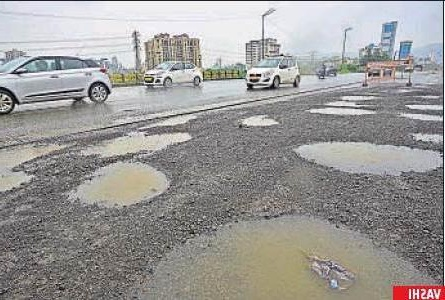pothole: (131, 210, 445, 300), (291, 135, 444, 176), (69, 158, 172, 207), (85, 127, 191, 159), (309, 105, 375, 117), (240, 112, 280, 128), (401, 99, 445, 110), (399, 111, 444, 121), (339, 92, 379, 100)
